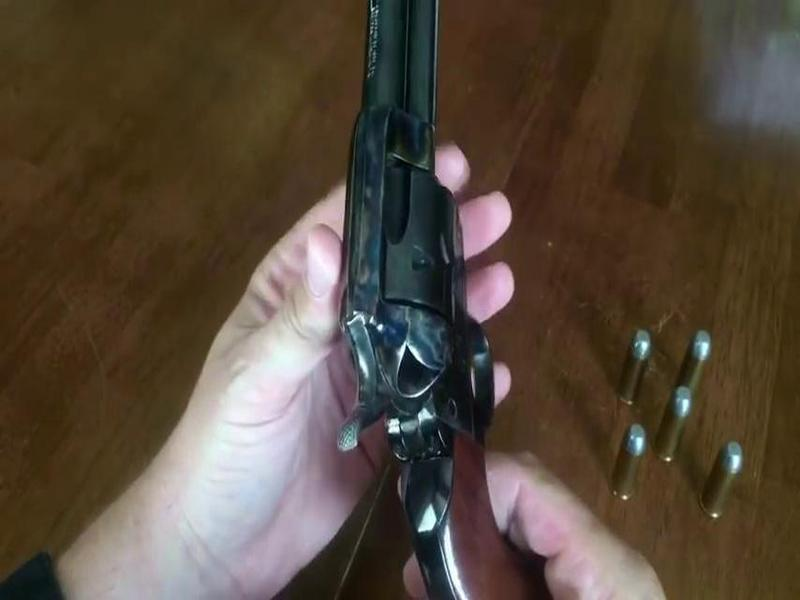Revolver: (312, 8, 589, 600)
